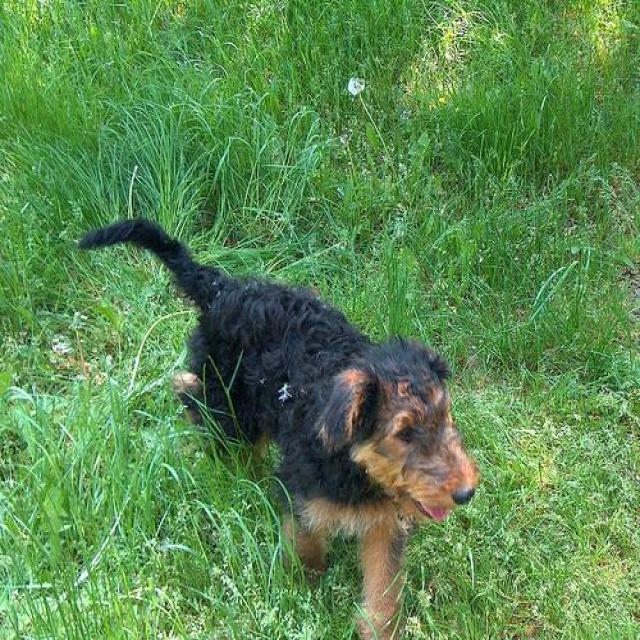airedale: (71, 207, 478, 633)
